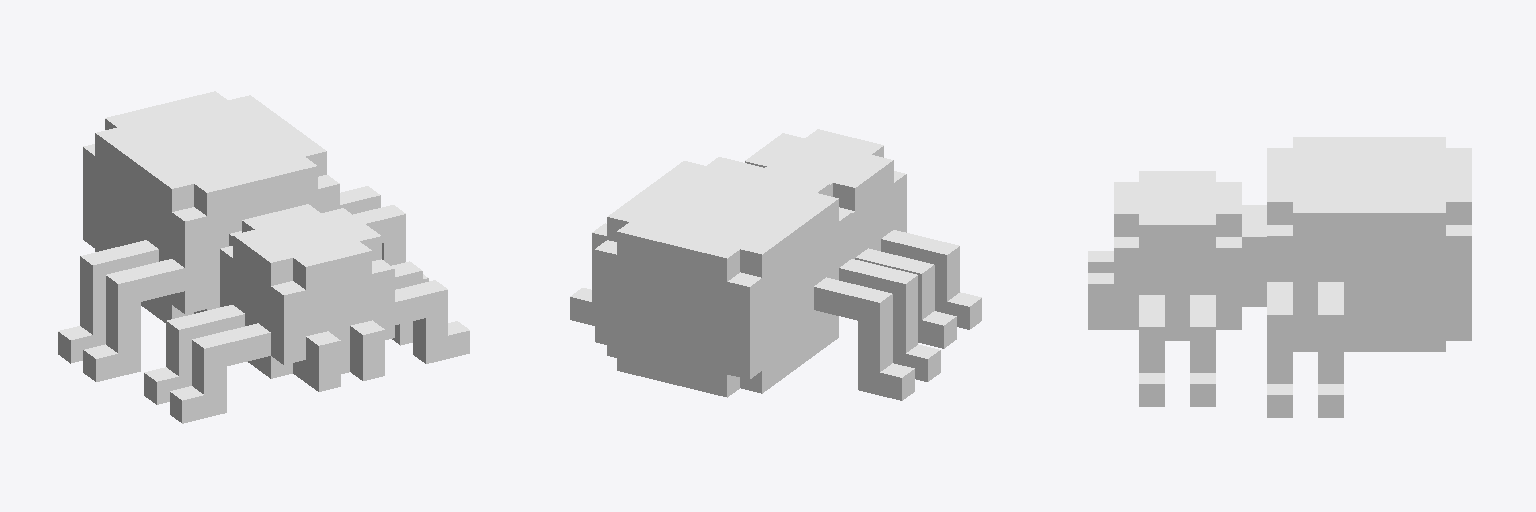
File: spider3.obj
3 views of the same model, side by side, from view 1: azimuth 30°, elevation 25°; view 2: azimuth 150°, elevation 25°; view 3: azimuth 270°, elevation 25° (orthographic).
Parts seen in each view (by area): view 1: spider3; view 2: spider3; view 3: spider3.
Boxes of the visible parts, box(x1,y1,x2,y2) form: spider3: box(58, 91, 469, 423); spider3: box(570, 129, 981, 400); spider3: box(1088, 137, 1471, 417).
Bounding box in the file's own units: 1.5 × 0.7 × 1.5.